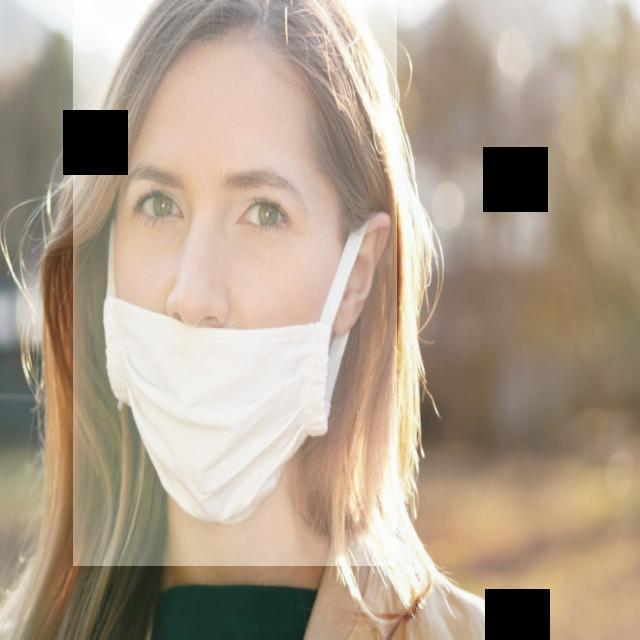hairnet: (74, 239, 390, 524)
